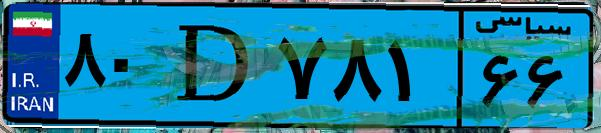0: (110, 28, 158, 98)
1: (385, 28, 445, 110)
6: (475, 38, 525, 113), (525, 38, 570, 115)
7: (270, 28, 330, 110)
8: (330, 28, 385, 110), (57, 26, 110, 100)
D: (158, 12, 270, 120)
